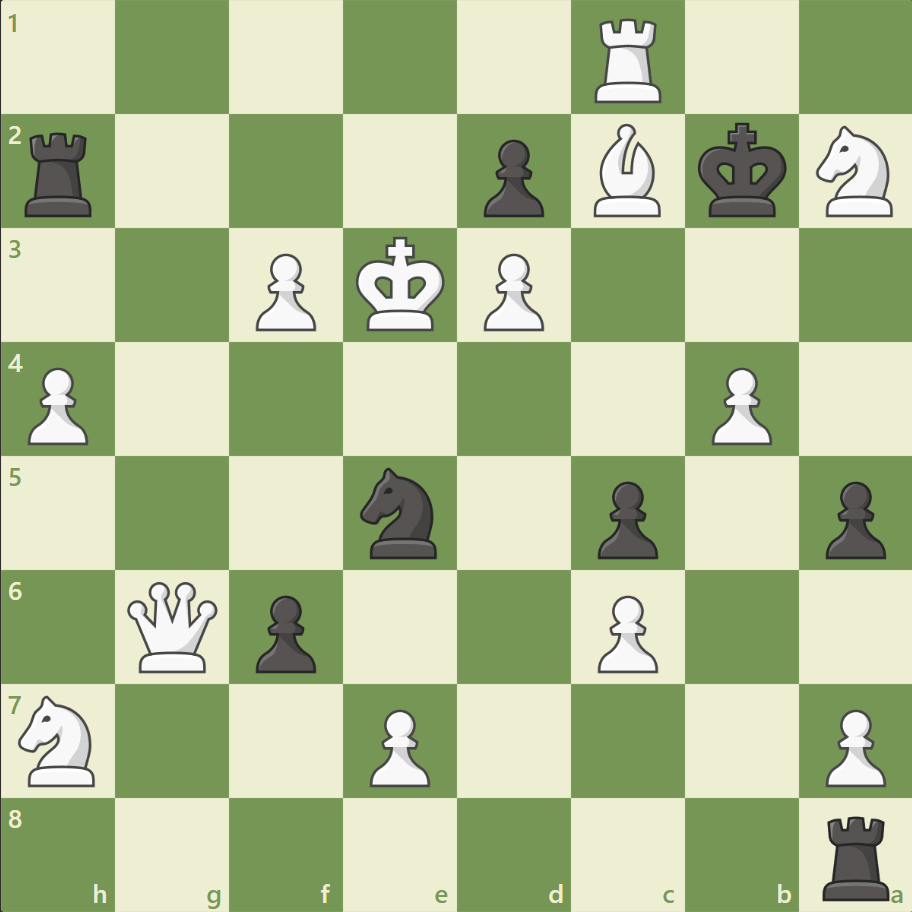B: (585, 120, 669, 222)
K: (351, 231, 451, 339)
N: (11, 688, 108, 791), (806, 121, 903, 223)
P: (701, 359, 776, 450), (20, 359, 95, 450), (474, 246, 549, 337), (247, 246, 322, 337), (815, 700, 889, 791), (361, 700, 435, 791), (588, 586, 662, 677)
Q: (124, 576, 223, 676)
R: (587, 12, 670, 109)
k: (692, 117, 792, 225)
n: (351, 461, 449, 564)
p: (247, 586, 322, 677), (474, 132, 549, 223), (815, 473, 889, 564), (588, 473, 662, 564)
r: (814, 806, 897, 904), (19, 125, 102, 222)
